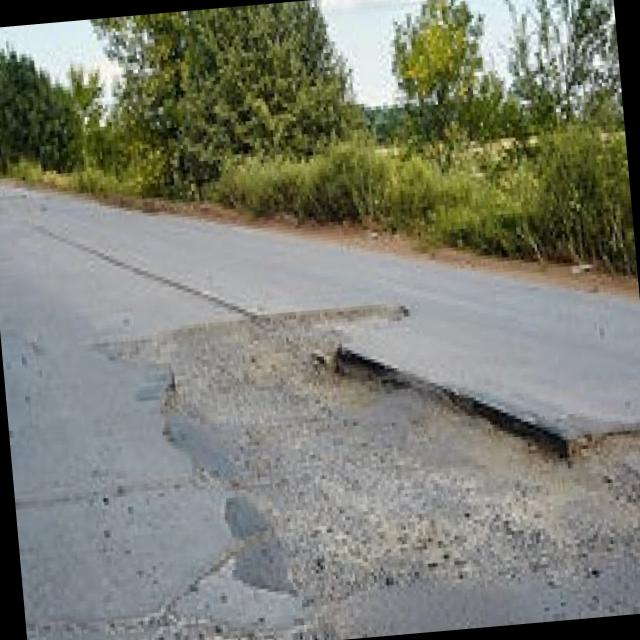Potholes: (100, 270, 640, 640)
